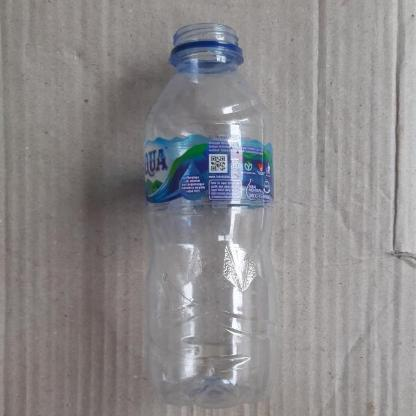Plastic Bottle: (144, 24, 274, 408)
